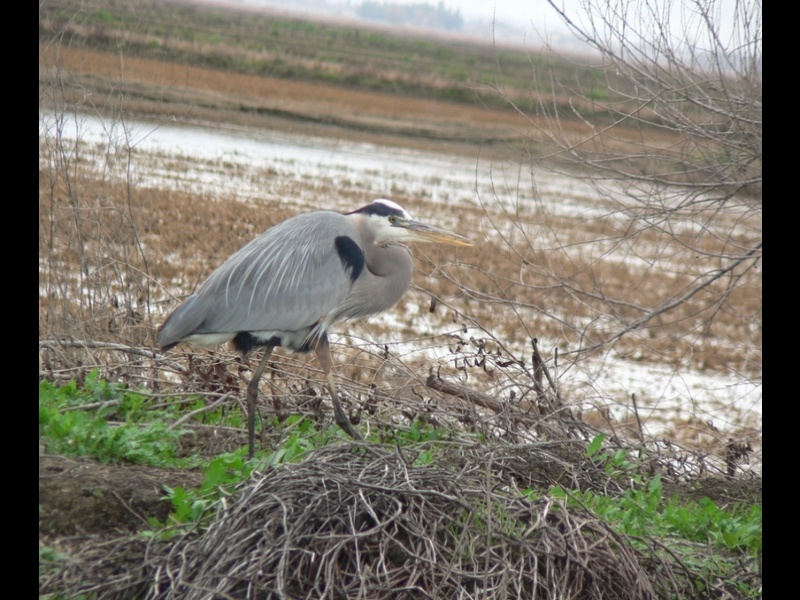heron: (153, 192, 477, 468)
